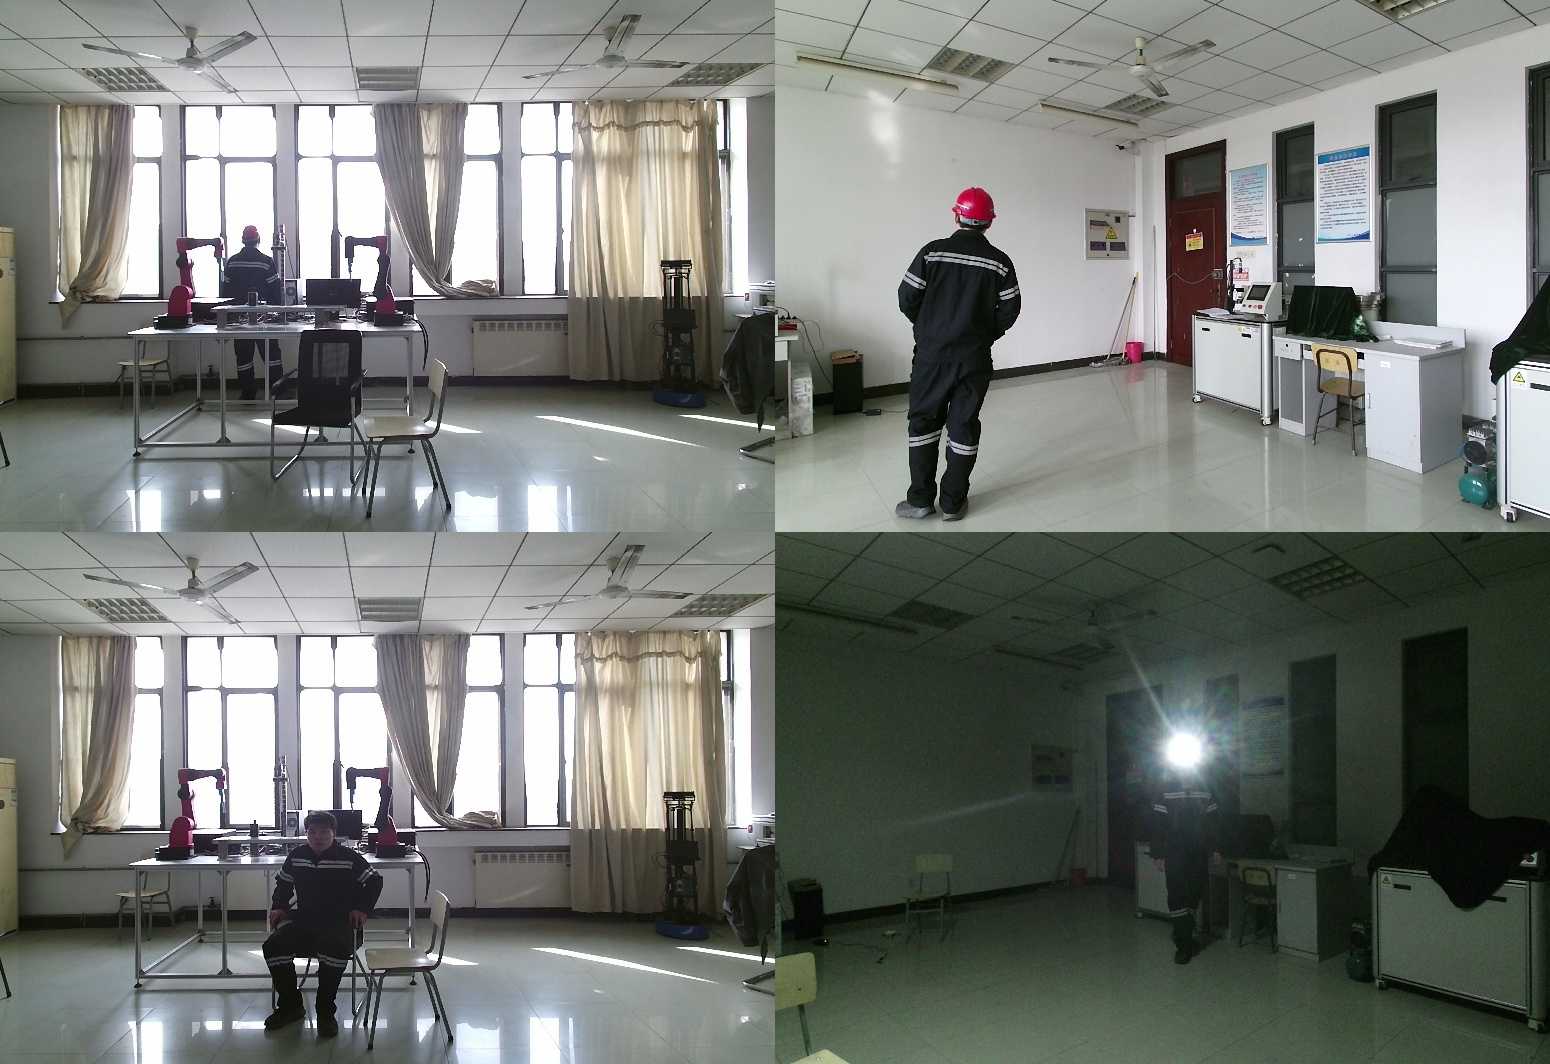person: (893, 188, 1037, 521), (264, 812, 390, 1036), (1148, 745, 1228, 963), (219, 226, 293, 409)
